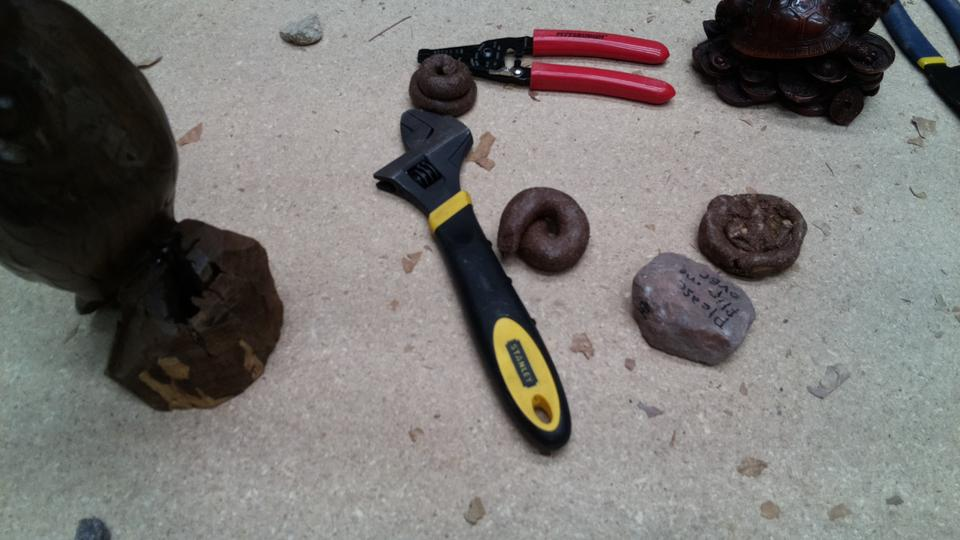poop: (694, 191, 810, 283), (494, 183, 594, 277), (402, 51, 481, 123)
